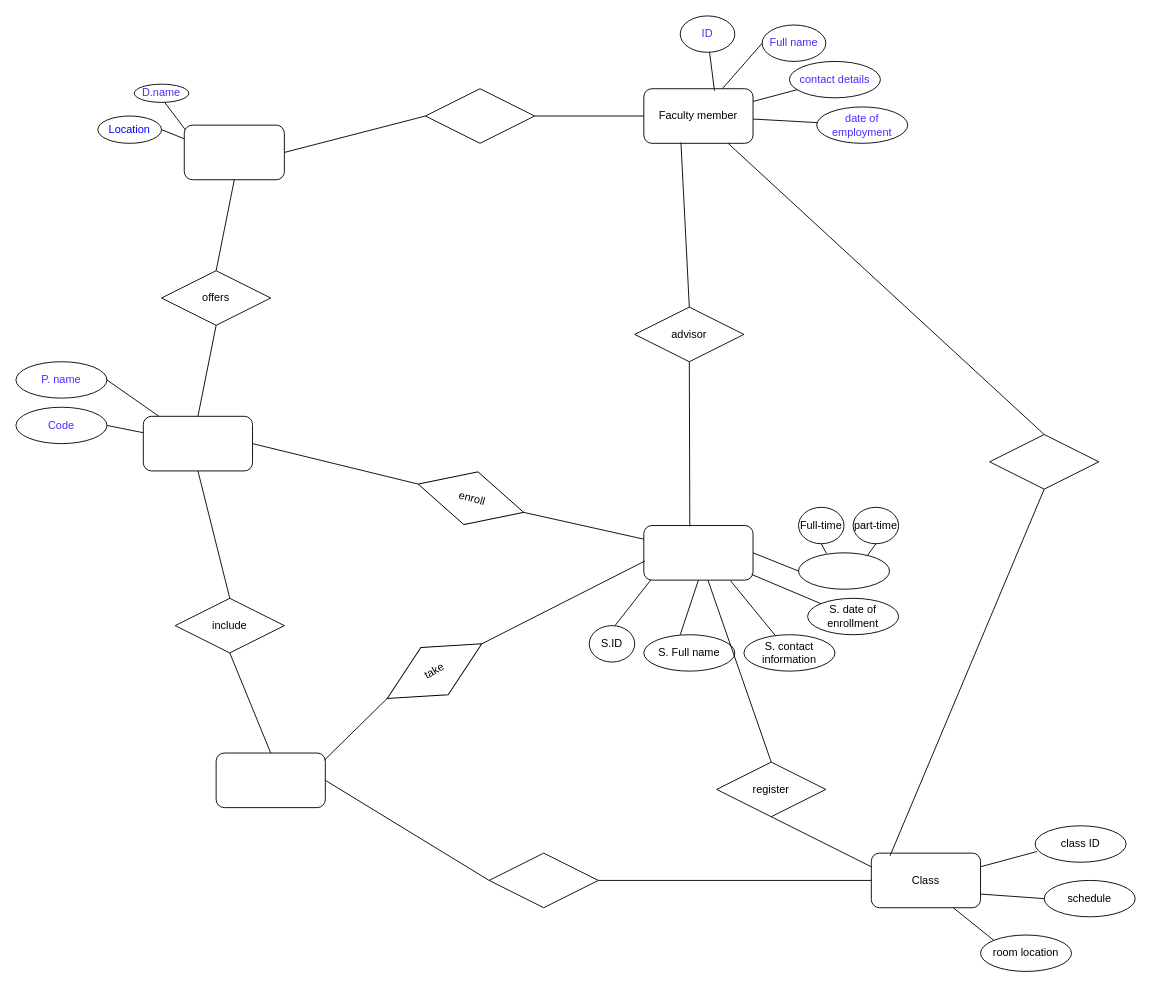
Image size: 1151x987. Some labels were removed from this diagram. The shapes that lost their labels are listed below. From the top down, each one's centre as x and y in pixels, then its label:
At [480,115]: "manage".
At [233,152]: "Department".
At [197,443]: "Program".
At [1044,461]: "teach".
At [698,552]: "Student".
At [844,570]: "current status".
At [270,780]: "course".
At [543,880]: "have".
